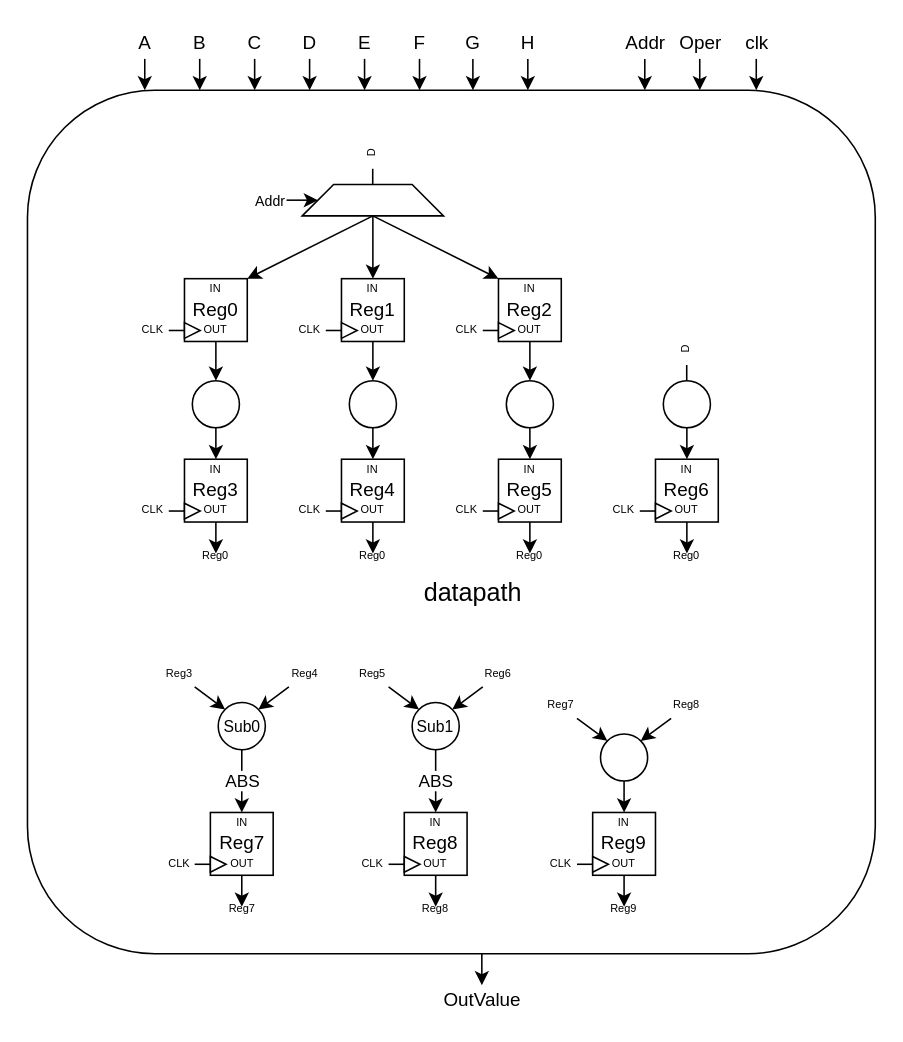
Some shapes in this 903 by 1042 pixel diagram are drawn without their labels. Each missing label, with the box of its shape:
Demux: (301, 183, 444, 216)
Sum0: (599, 732, 648, 781)
X0: (191, 379, 239, 428)
X1: (348, 379, 396, 428)
X2: (505, 379, 553, 428)
X3: (662, 379, 710, 428)
